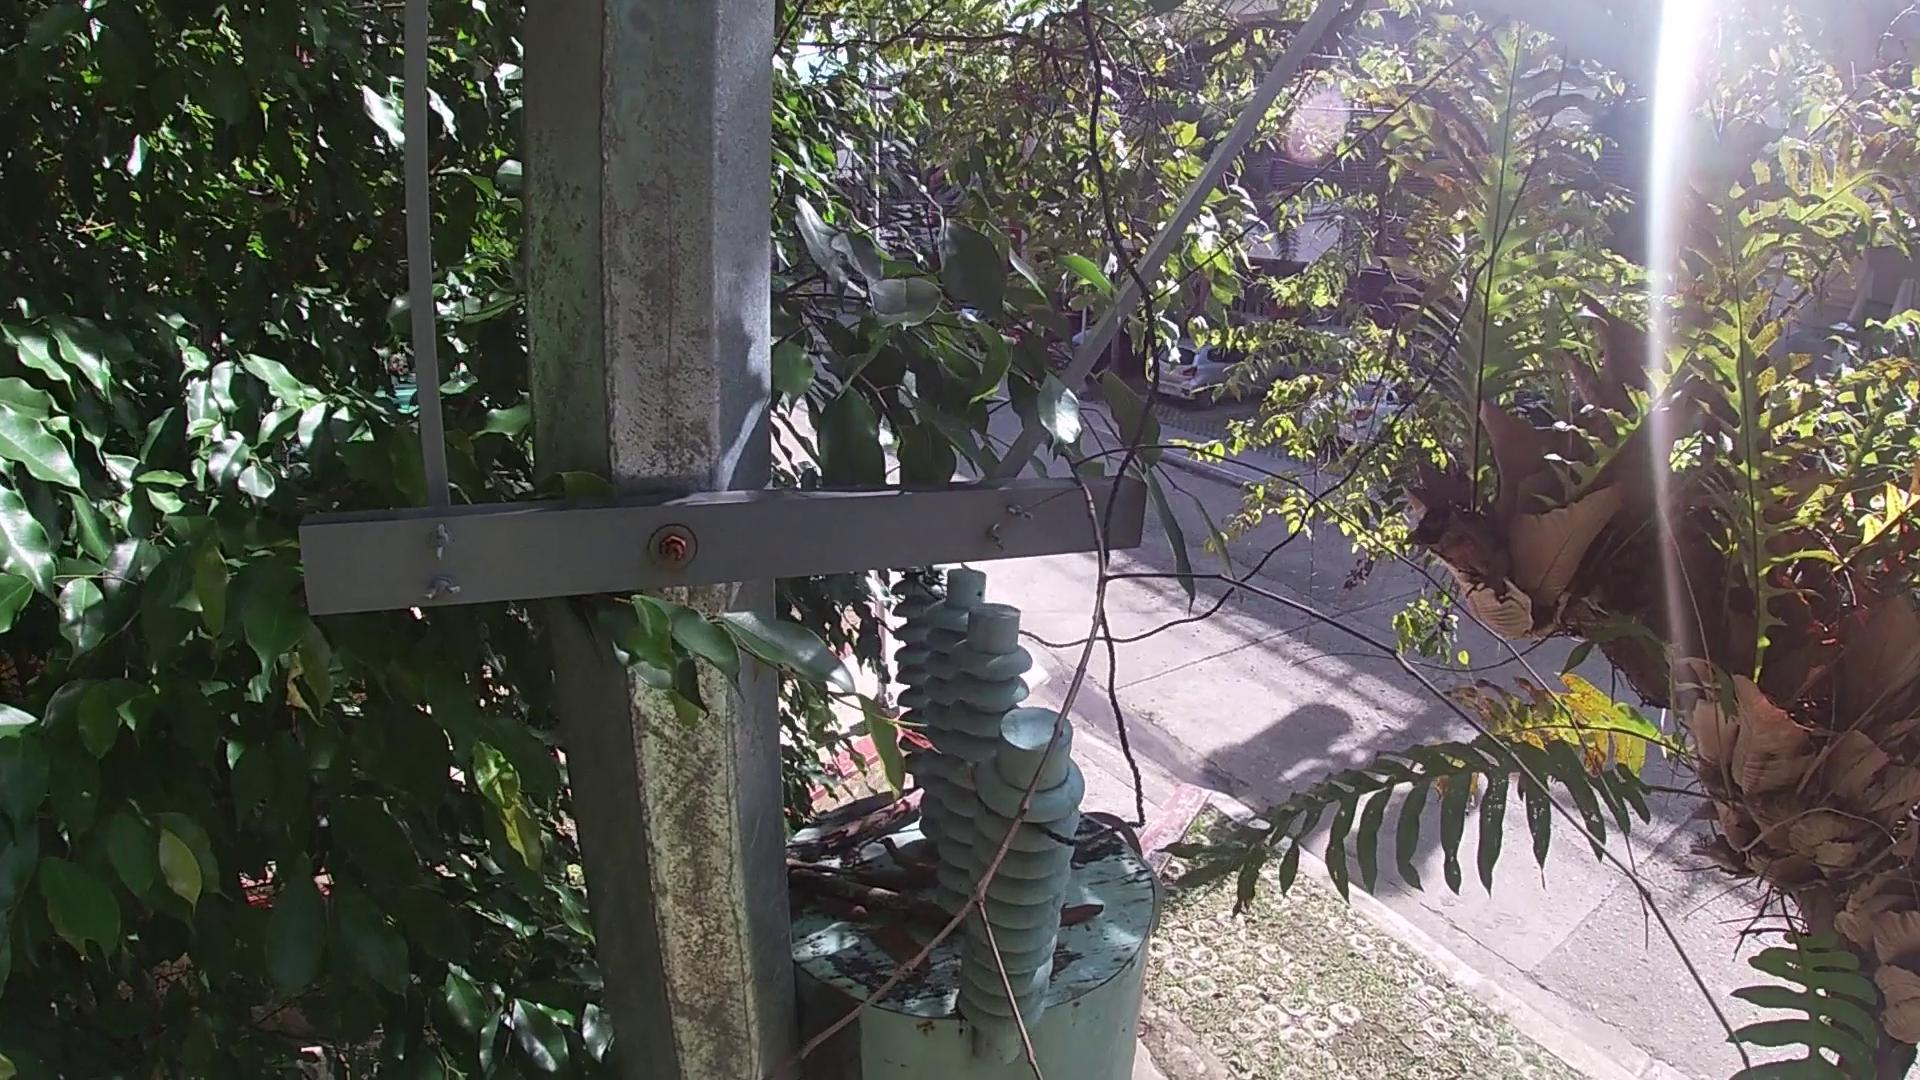leaf: (872, 927, 928, 984), (798, 898, 876, 923)
mahogany fruit: (872, 832, 945, 866), (1058, 897, 1108, 928)
tree branch: (779, 364, 1775, 1071), (790, 870, 953, 923), (819, 781, 934, 843), (781, 852, 862, 878)
